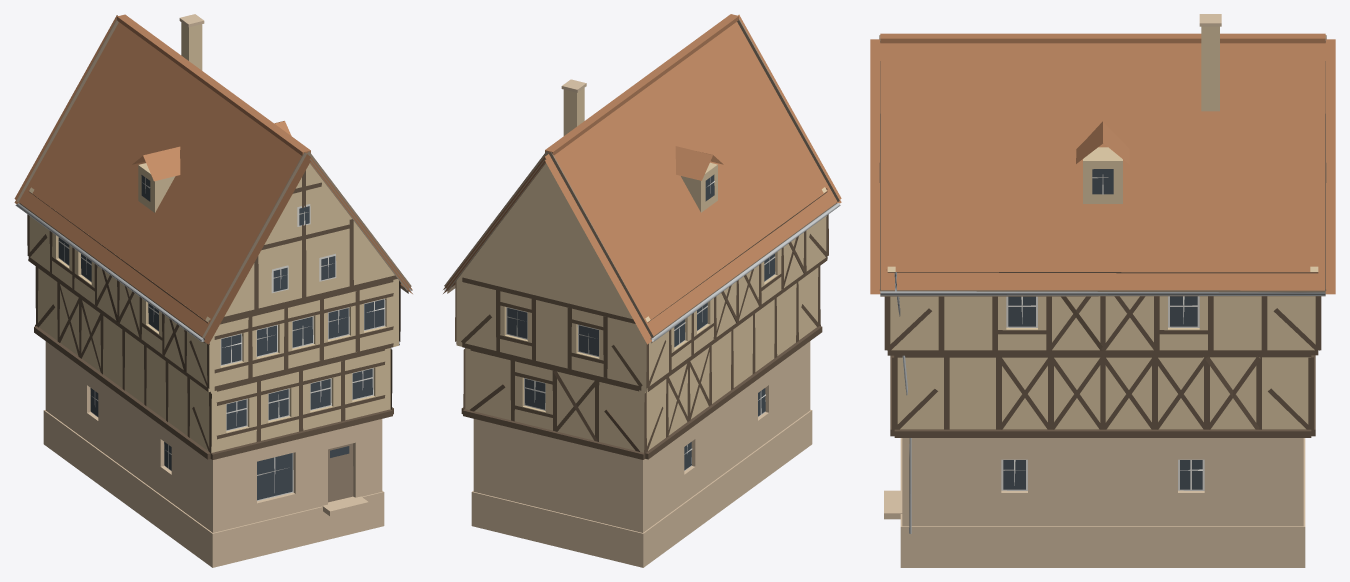
File: oldtown-gable-3-lod1.glb
3 views of the same model, side by side, from view 1: azimuth 30°, elevation 25°; view 2: azimuth 150°, elevation 25°; view 3: azimuth 270°, elevation 25° (orthographic). The views are drawn at different scales.
Visible parts, largest first — view 1: oldtown-gable-3-plaster.001; view 2: oldtown-gable-3-plaster.001; view 3: oldtown-gable-3-plaster.001.
Part boxes in pixels (x1,y1,x2,y2): oldtown-gable-3-plaster.001: (14, 14, 412, 567); oldtown-gable-3-plaster.001: (443, 14, 841, 567); oldtown-gable-3-plaster.001: (870, 14, 1335, 567).
Bounding box in the file's own units: 8.73 × 16.91 × 13.92.
